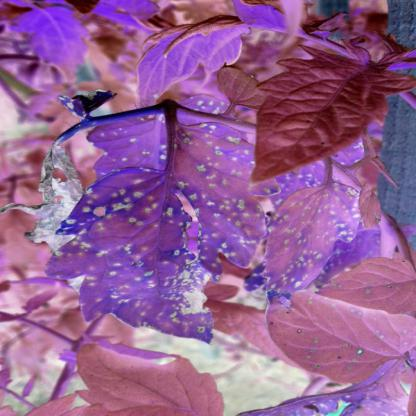tomato septoria leaf spot: (42, 106, 257, 347)
